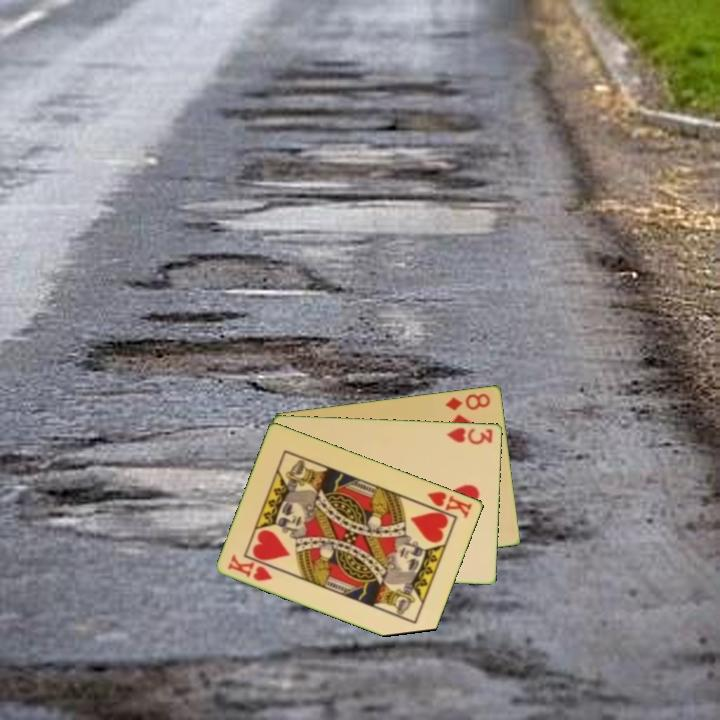3h: (444, 424, 495, 447)
8d: (442, 390, 493, 413)
Kh: (418, 487, 475, 521), (224, 551, 276, 584)
